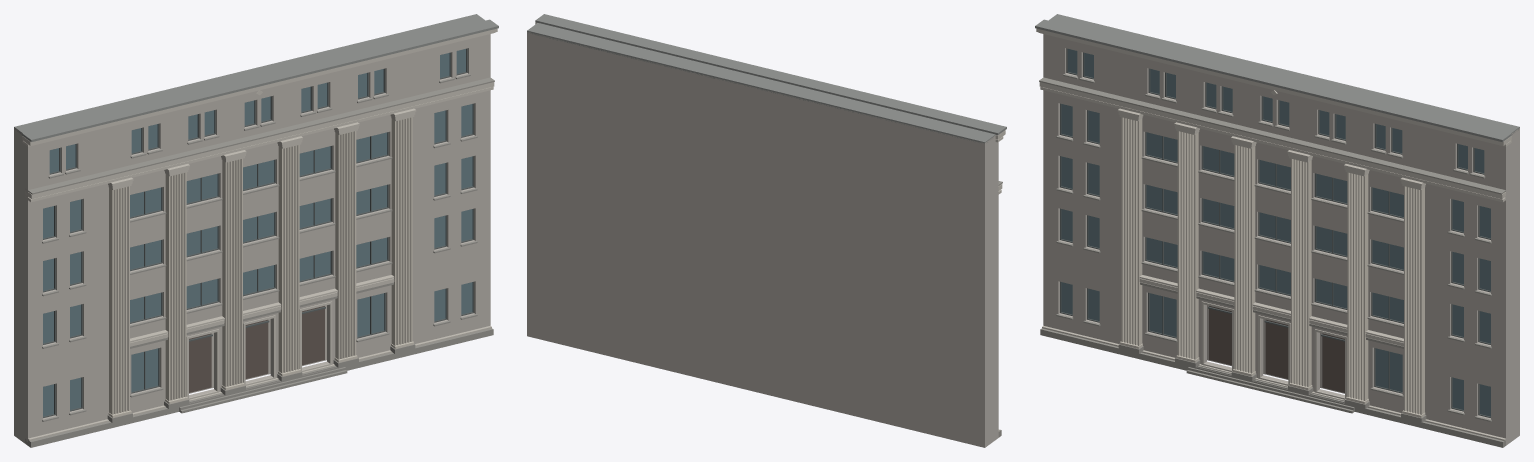
Rendered from hongkou-unrra-gray-building-north-front-lod.glb.
The picture shows the model from 3 angles, left to right: view 1: azimuth 30°, elevation 25°; view 2: azimuth 150°, elevation 25°; view 3: azimuth 330°, elevation 25°; orthographic projection.
Visible parts, largest first — view 1: 黄浦路106号联合国大厦灰楼北立面; view 2: 黄浦路106号联合国大厦灰楼北立面; view 3: 黄浦路106号联合国大厦灰楼北立面.
Boxes of the visible parts, x1,y1,x2,y2 form: 黄浦路106号联合国大厦灰楼北立面: (14,14,498,447); 黄浦路106号联合国大厦灰楼北立面: (527,14,1006,447); 黄浦路106号联合国大厦灰楼北立面: (1035,14,1519,447).
Size of the model in its own units: 39.7 by 25.21 by 2.89.
